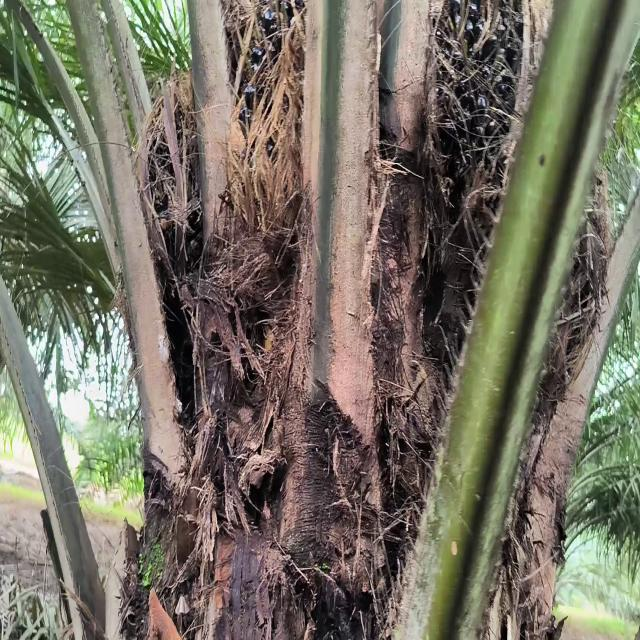palm-oil: (431, 2, 524, 258), (231, 5, 315, 222)
